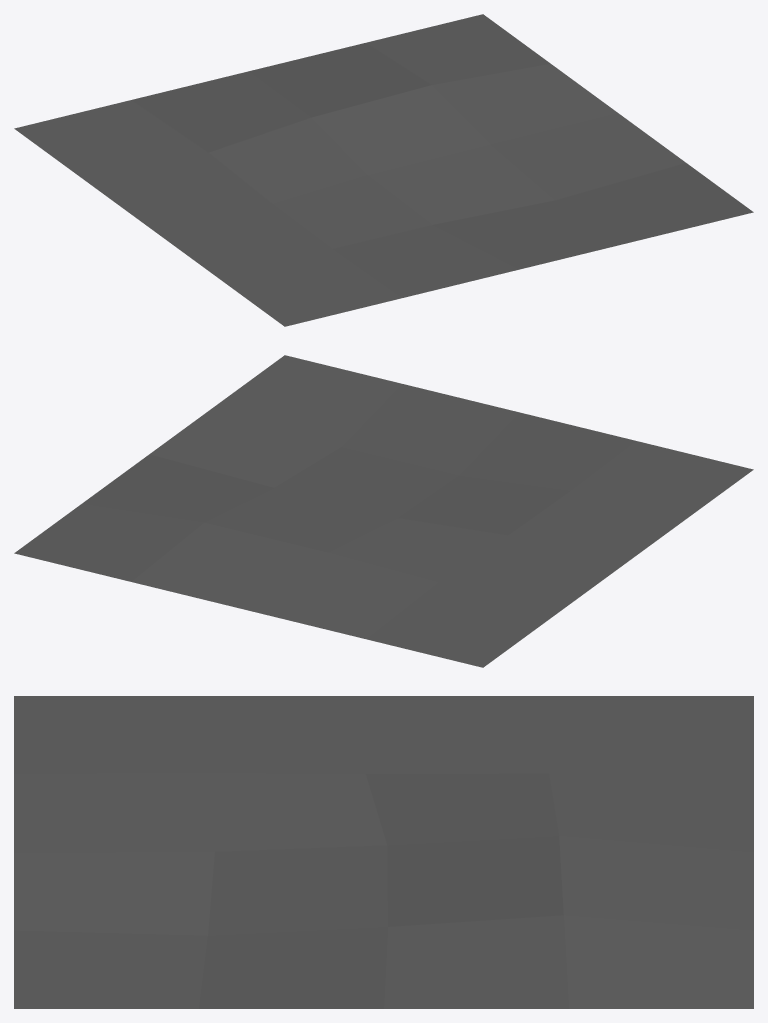
File: STREET.glb
3 renders of one model, top to bottom at view 1: azimuth 30°, elevation 25°; view 2: azimuth 150°, elevation 25°; view 3: azimuth 270°, elevation 25°, orthographic. The views are drawn at different scales.
Visible parts, largest first — view 1: Plane; view 2: Plane; view 3: Plane.
Boxes of the visible parts, x1,y1,x2,y2 form: Plane: (14,14,753,326); Plane: (14,355,753,667); Plane: (14,696,753,1008).
Bounding box in the file's own units: 2 × 0.0746 × 2.
1 material, 1 textured.
